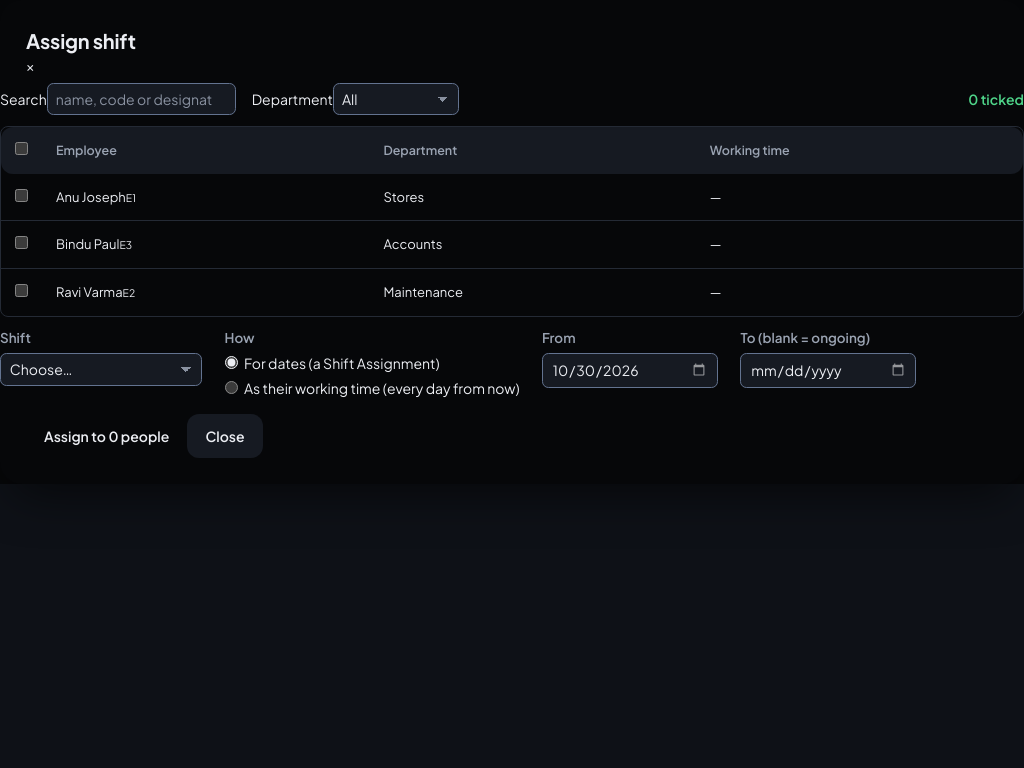
Test: the Assign shift window › shows each shift's hours in the list, and the chosen one's under it
The width and height of the screenshot is (1024, 768).
Click the checkbox named "Tick Anu Joseph" at (22, 195), box [15, 188, 28, 202]
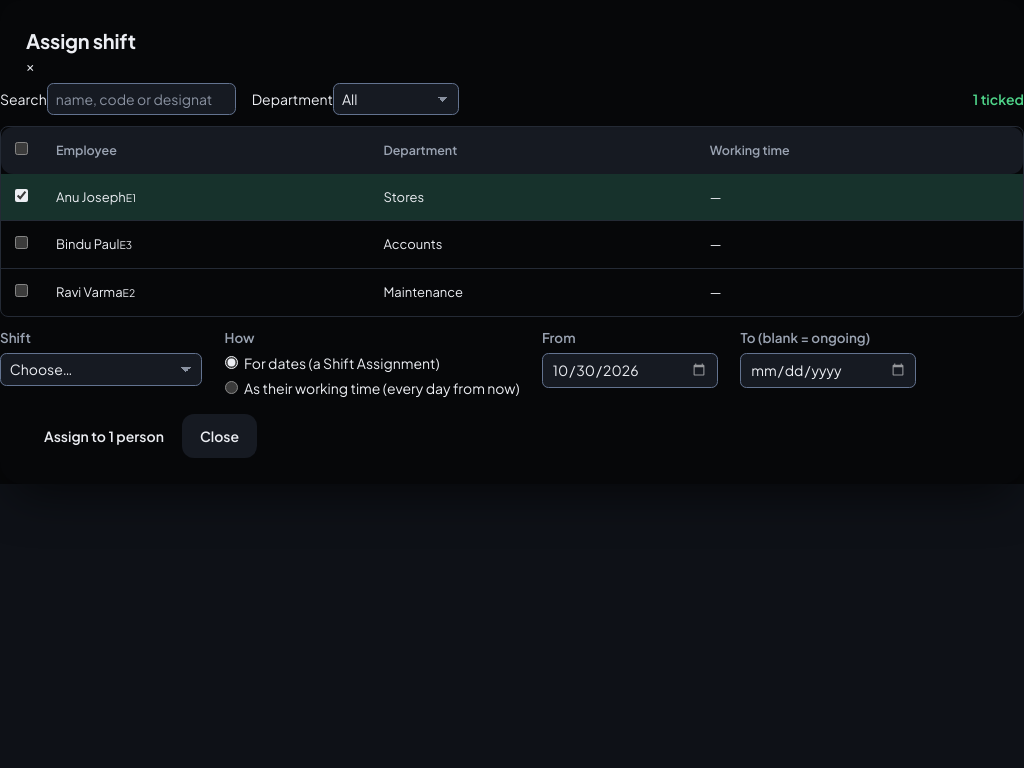
Select "MT Night · 20:00–08:00" in the dropdown labelled "Shift" at (101, 369), box [0, 352, 202, 386]
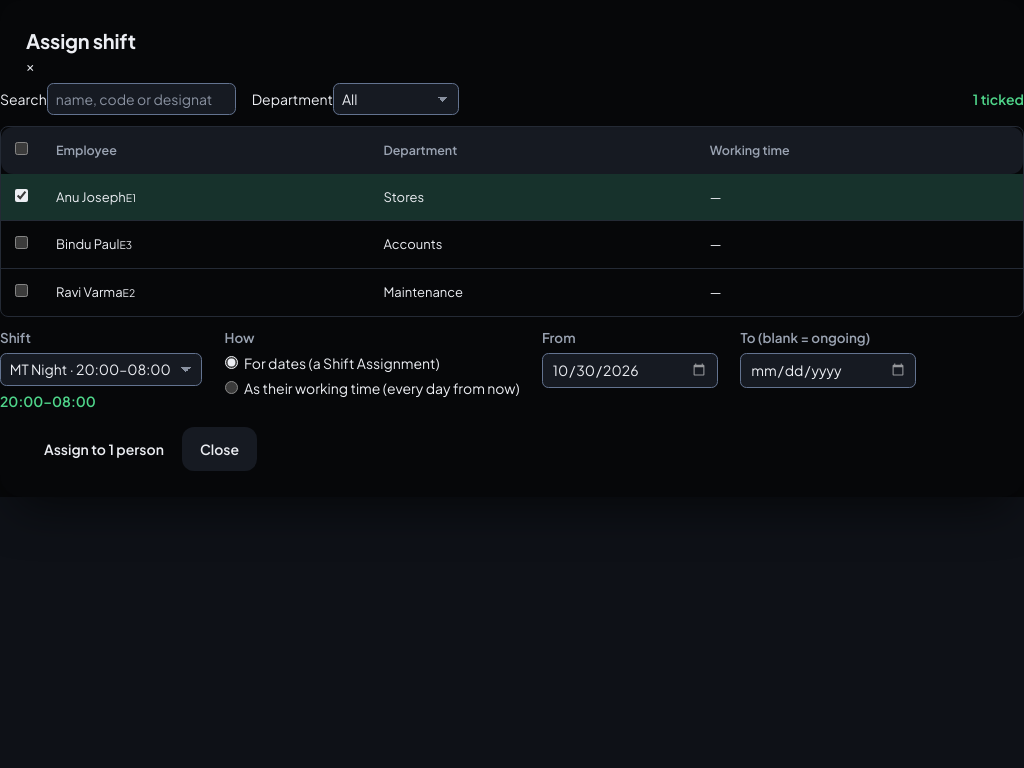
Expected: the text with class "bshhours" reads "20:00–08:00", [0, 392, 96, 410]
